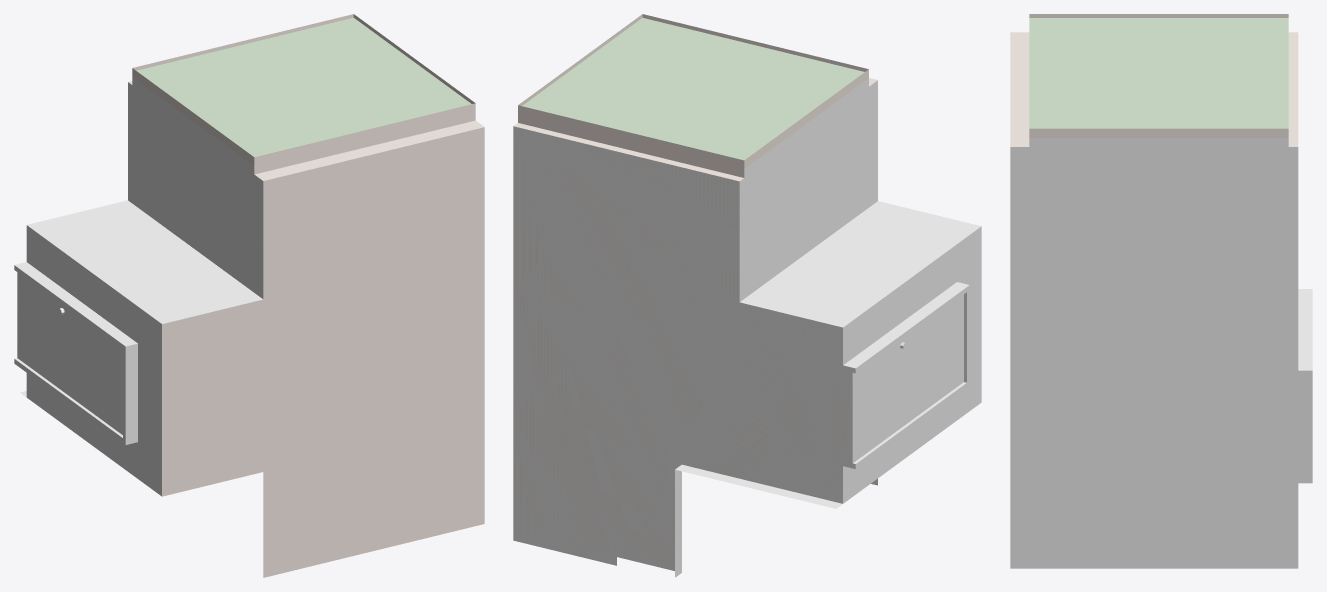
Rendered from room11.obj.
3 renders of one model, left to right at view 1: azimuth 30°, elevation 25°; view 2: azimuth 150°, elevation 25°; view 3: azimuth 270°, elevation 25°, orthographic. The views are drawn at different scales.
Parts seen in each view (by area): view 1: room11; view 2: room11; view 3: room11.
Part boxes in pixels (left/top/right/bottom): room11: left=14, top=14, right=484, bottom=577; room11: left=513, top=14, right=981, bottom=577; room11: left=1010, top=14, right=1312, bottom=568.
Bounding box in the file's own units: 143 × 172 × 105.
